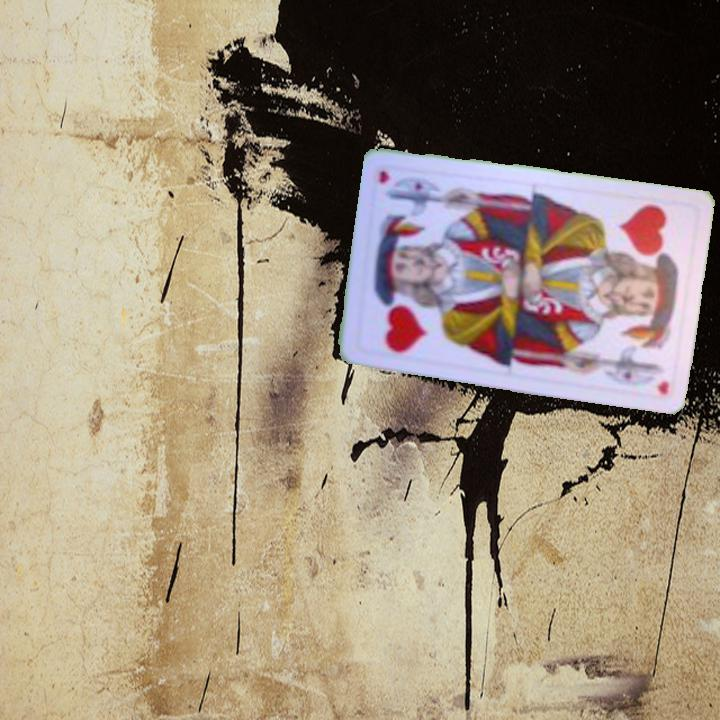h_j.png: (599, 194, 698, 305), (353, 254, 451, 365)
